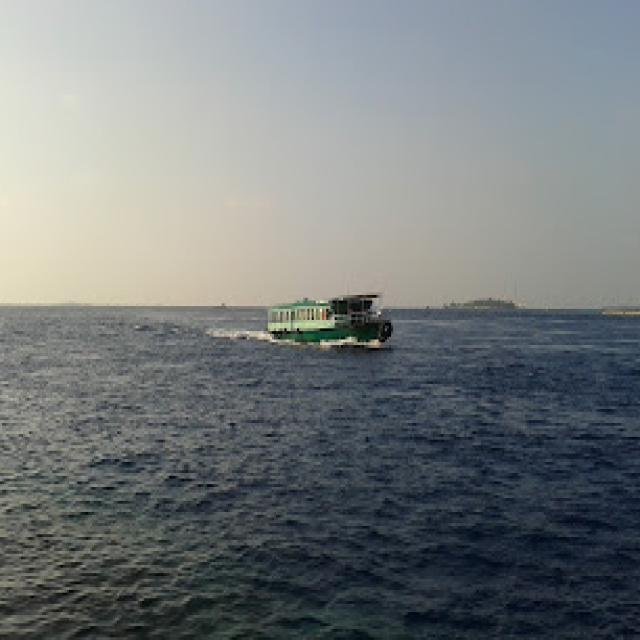houseboat: (247, 279, 390, 369)
